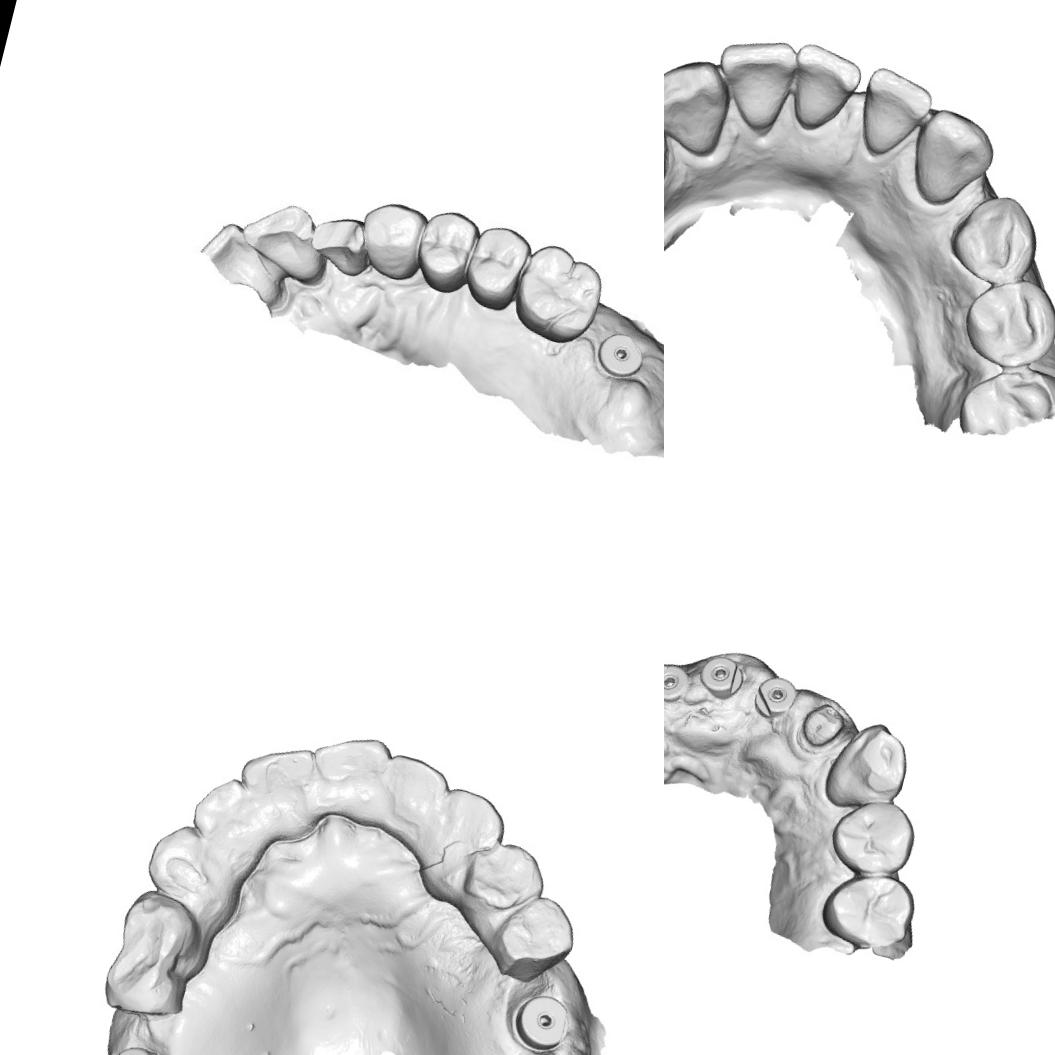canine: (818, 710, 920, 821), (903, 102, 1001, 216), (664, 47, 738, 161), (136, 816, 222, 910), (354, 197, 426, 282), (431, 782, 514, 852)
crown: (791, 694, 852, 756)
implant: (504, 986, 576, 1055), (587, 321, 653, 395), (690, 648, 754, 709), (751, 670, 802, 720), (103, 1039, 172, 1055), (664, 659, 689, 702)
incisor: (706, 28, 805, 140), (848, 62, 938, 168), (780, 36, 869, 142), (234, 192, 332, 284), (303, 723, 394, 800), (234, 732, 320, 811), (183, 770, 260, 854), (374, 749, 455, 816), (300, 205, 375, 277)
molar: (501, 235, 612, 352)
premolar: (942, 185, 1050, 296), (953, 265, 1055, 381), (813, 862, 922, 956), (822, 790, 920, 882), (110, 882, 210, 972), (92, 942, 194, 1026), (492, 886, 585, 978), (457, 832, 549, 920), (456, 218, 534, 316), (408, 205, 481, 297)
